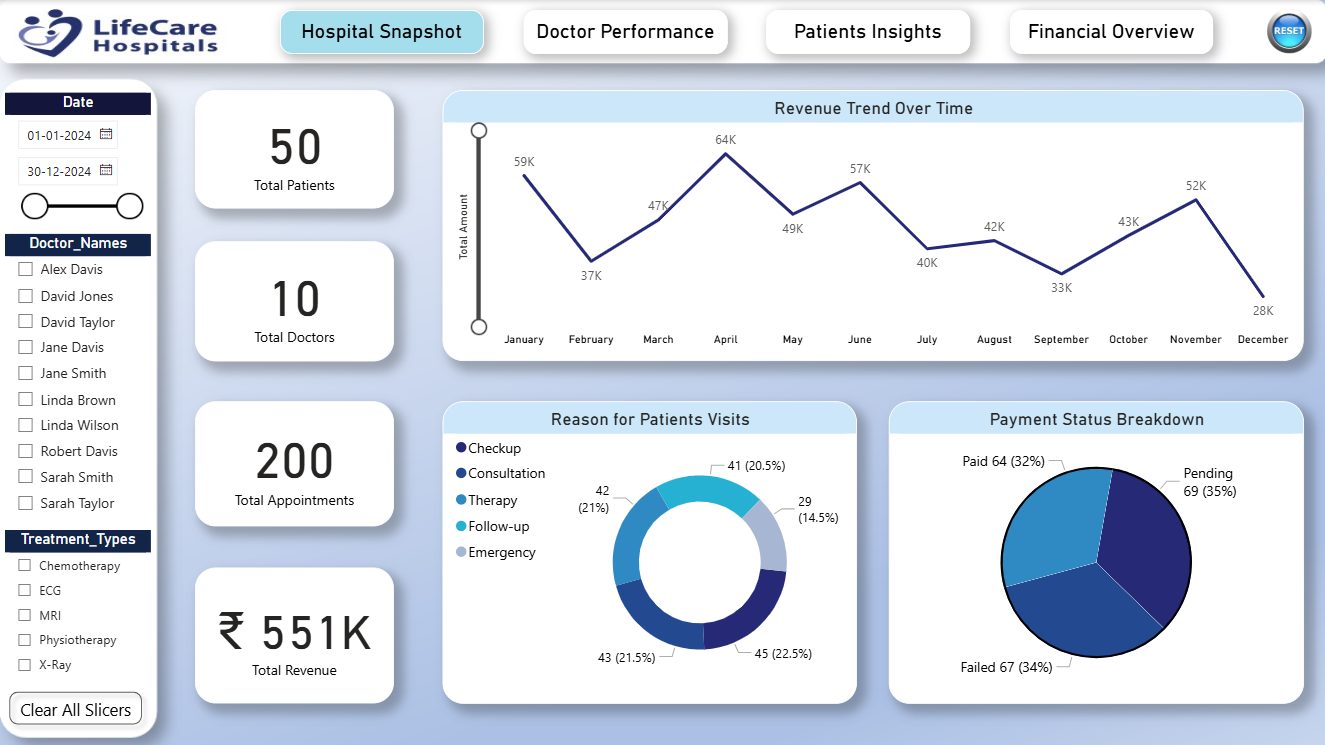

Layout of this report page (visuals, bound fields, positions):
{"tool":"powerbi","page":{"name":"Overview","canvas":[1280,720],"ordinal":0},"visuals":[{"type":"lineChart","title":"Revenue Trend Over Time","fields":{"Y":["hospital_db billing.amount"],"Category":["hospital_db billing.bill_date.Variation.Date Hierarchy.Year","hospital_db billing.bill_date.Variation.Date Hierarchy.Quarter","hospital_db billing.bill_date.Variation.Date Hierarchy.Month","hospital_db billing.bill_date.Variation.Date Hierarchy.Day"]},"box":[427.1,86.9,831.2,261.8],"z":0},{"type":"pieChart","title":"Payment Status Breakdown ","fields":{"Category":["hospital_db billing.payment_status"],"Y":["hospital_db billing.bill_id"]},"box":[857.8,387.3,400.5,292],"z":1000},{"type":"donutChart","title":"Reason for Patients Visits","fields":{"Category":["Appointments.reason_for_visit"],"Y":["Appointments.appointment_id"]},"box":[427.1,387.3,400,292],"z":2000},{"type":"card","title":"Total Patients","fields":{"Values":["Patients.patient_id"]},"box":[188.2,86.9,191.8,114.6],"z":3000},{"type":"card","title":"Total Doctors","fields":{"Values":["Doctors.doctor_id"]},"box":[188.2,232.8,191.8,115.8],"z":4000},{"type":"card","title":"Total Appointments","fields":{"Values":["Appointments.appointment_id"]},"box":[188.2,387.3,191.8,120.6],"z":5000},{"type":"card","title":"Total Revenues ","fields":{"Values":["Billing.amount"]},"box":[188.2,547.7,191.8,131.5],"z":6000},{"type":"slicer","title":"Doctor_Names","fields":{"Values":["Doctors.full_name"]},"box":[4.8,225.6,141.2,279.9],"z":7000},{"type":"slicer","title":"Treatment_Types","fields":{"Values":["Treaments.treatment_type"]},"box":[4.8,511.5,141.2,148.4],"z":8000},{"type":"actionButton","box":[0,658.7,146,49.5],"z":9000},{"type":"image","box":[0,0,234,61.5],"z":10000},{"type":"textbox","box":[270,10,196.6,42],"z":11000},{"type":"textbox","box":[505,10,196.6,42],"z":12000},{"type":"textbox","box":[975,10,196,42],"z":13000},{"type":"textbox","box":[740,10,196.6,42],"z":14000},{"type":"actionButton","box":[270.2,9.7,196.6,42.2],"z":15000},{"type":"actionButton","box":[505.5,9.7,196.6,42.2],"z":16000},{"type":"actionButton","box":[739.5,9.7,196.6,42.2],"z":17000},{"type":"actionButton","box":[974.8,9.7,195.4,42.2],"z":18000},{"type":"slicer","title":"Date","fields":{"Values":["Appointments.appointment_date"]},"box":[4.8,89.3,141.2,124.3],"z":19000},{"type":"image","box":[1214.9,3.6,59.1,53],"z":19001}]}

Visuals, with their boxes in screenshot pixels (x1, y1, x2, y2), scaled from the page's 1280x720 canvas onto the 1325x745 screenshot:
"Revenue Trend Over Time" lineChart: 442,90,1303,361
"Payment Status Breakdown " pieChart: 888,401,1303,703
"Reason for Patients Visits" donutChart: 442,401,856,703
"Total Patients" card: 195,90,393,208
"Total Doctors" card: 195,241,393,361
"Total Appointments" card: 195,401,393,526
"Total Revenues " card: 195,567,393,703
"Doctor_Names" slicer: 5,233,151,523
"Treatment_Types" slicer: 5,529,151,683
actionButton: 0,682,151,733
image: 0,0,242,64
textbox: 279,10,483,54
textbox: 523,10,726,54
textbox: 1009,10,1212,54
textbox: 766,10,970,54
actionButton: 280,10,483,54
actionButton: 523,10,727,54
actionButton: 765,10,969,54
actionButton: 1009,10,1211,54
"Date" slicer: 5,92,151,221
image: 1258,4,1319,59
